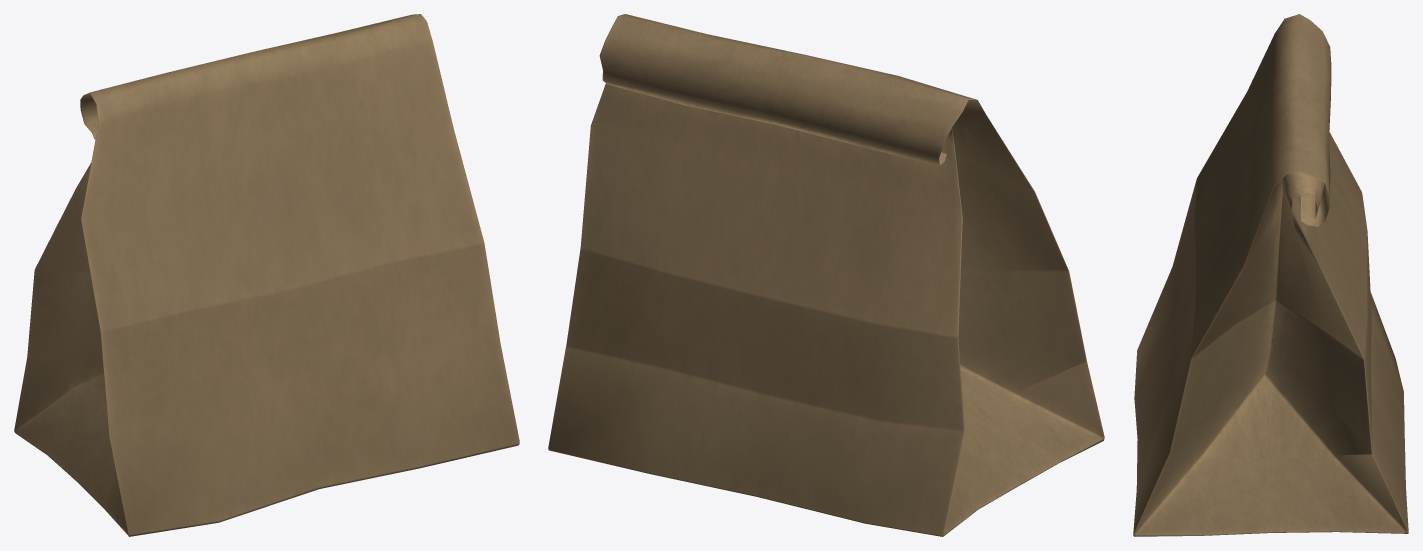
3 renders of one model, left to right at view 1: azimuth 30°, elevation 25°; view 2: azimuth 150°, elevation 25°; view 3: azimuth 270°, elevation 25°, orthographic. The views are drawn at different scales.
Parts seen in each view (by area): view 1: SackLunch.002; view 2: SackLunch.002; view 3: SackLunch.002.
Part boxes in pixels (x1,y1,x2,y2): SackLunch.002: [14, 14, 519, 536]; SackLunch.002: [548, 14, 1104, 536]; SackLunch.002: [1133, 14, 1408, 536].
Bounding box in the file's own units: 0.1451 × 0.135 × 0.0917.
Materials: 1 (1 with a texture image).
